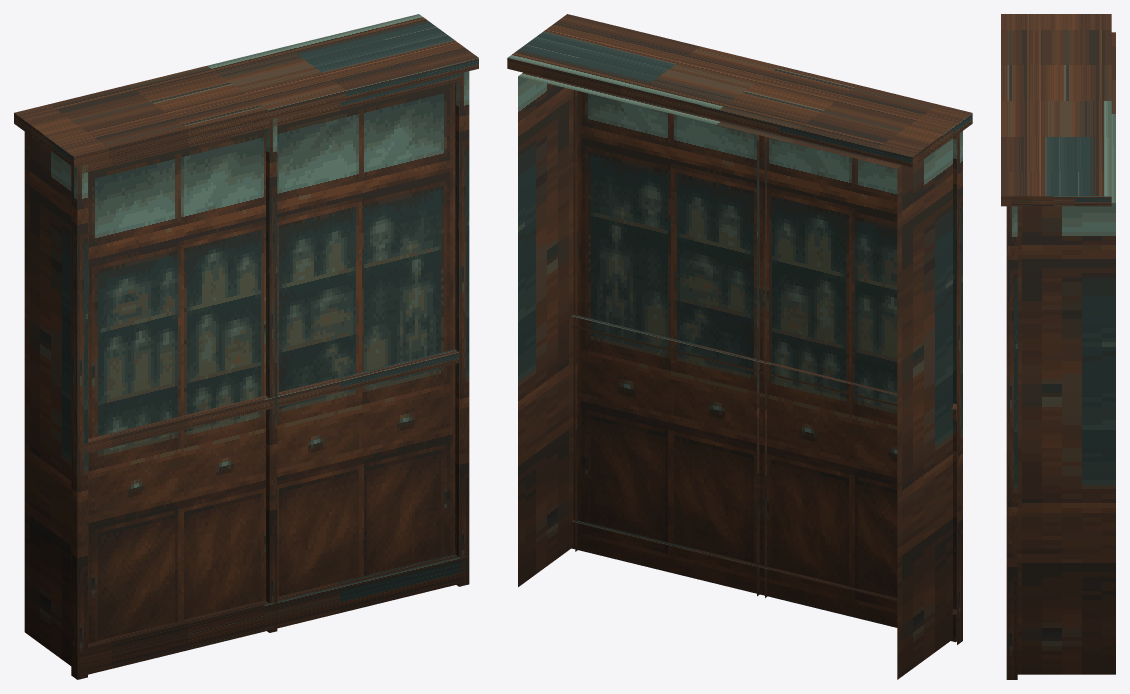
File: prop_specimen_shelf-4.glb
3 renders of one model, left to right at view 1: azimuth 30°, elevation 25°; view 2: azimuth 150°, elevation 25°; view 3: azimuth 270°, elevation 25°, orthographic. The views are drawn at different scales.
Visible parts, largest first — view 1: prop_specimen_shelf-4; view 2: prop_specimen_shelf-4; view 3: prop_specimen_shelf-4.
Part boxes in pixels (box(x1,y1,x2,y2)): prop_specimen_shelf-4: box(14, 14, 478, 679); prop_specimen_shelf-4: box(507, 14, 972, 679); prop_specimen_shelf-4: box(1001, 14, 1115, 679).
Size of the model in its own units: 1.56 by 1.94 by 0.415.
Materials: 1 (1 with a texture image).
